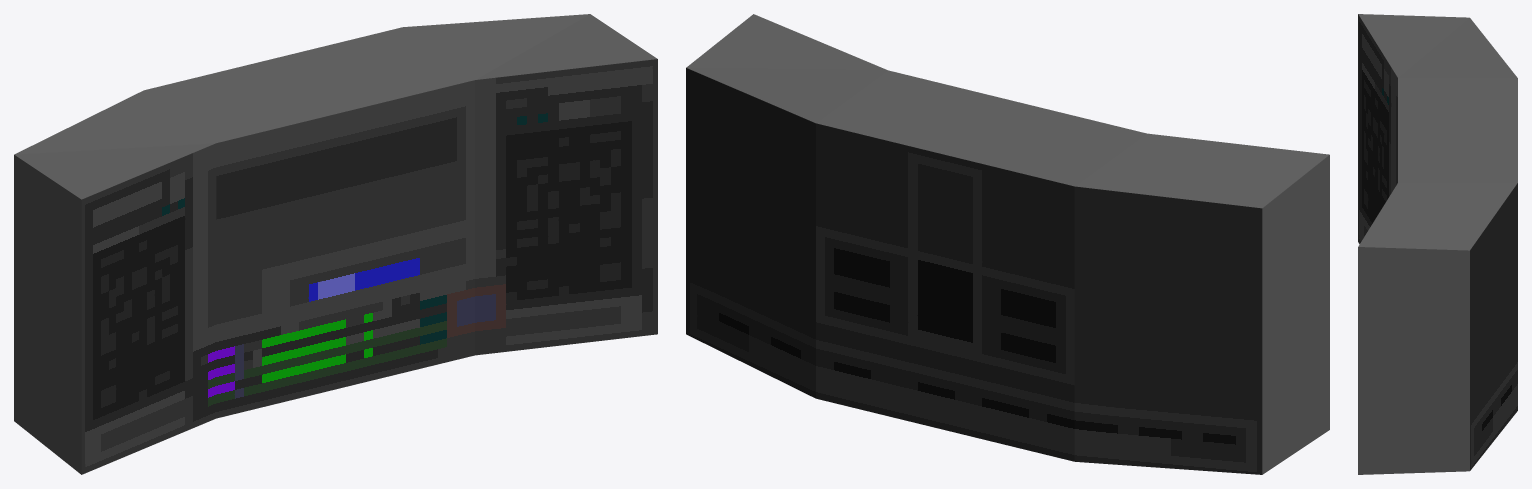
3 renders of one model, left to right at view 1: azimuth 30°, elevation 25°; view 2: azimuth 150°, elevation 25°; view 3: azimuth 270°, elevation 25°, orthographic. The views are drawn at different scales.
Parts seen in each view (by area): view 1: ss3d_03_stereo; view 2: ss3d_03_stereo; view 3: ss3d_03_stereo.
Boxes of the visible parts, x1,y1,x2,y2 form: ss3d_03_stereo: [14, 14, 657, 474]; ss3d_03_stereo: [686, 14, 1329, 474]; ss3d_03_stereo: [1358, 14, 1517, 474].
Bounding box in the file's own units: 1.08 × 0.4922 × 0.3125.
1 material, 1 textured.
